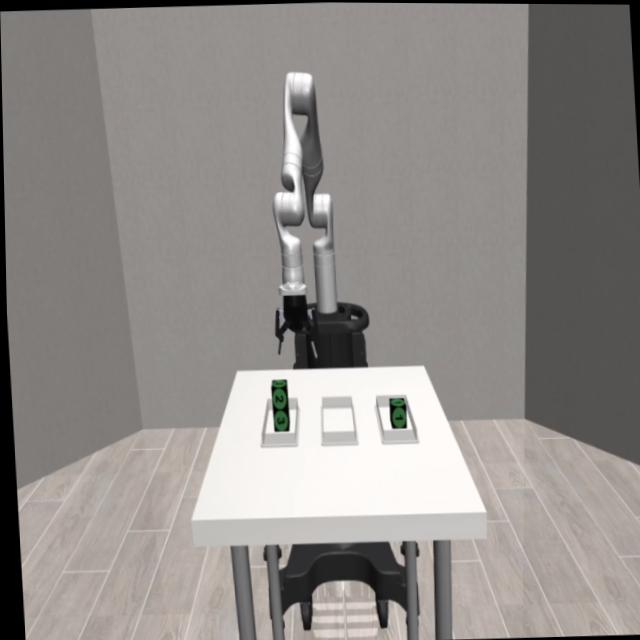cube1: (384, 396, 404, 430)
cube2: (268, 378, 287, 407)
cube3: (271, 403, 288, 431)
